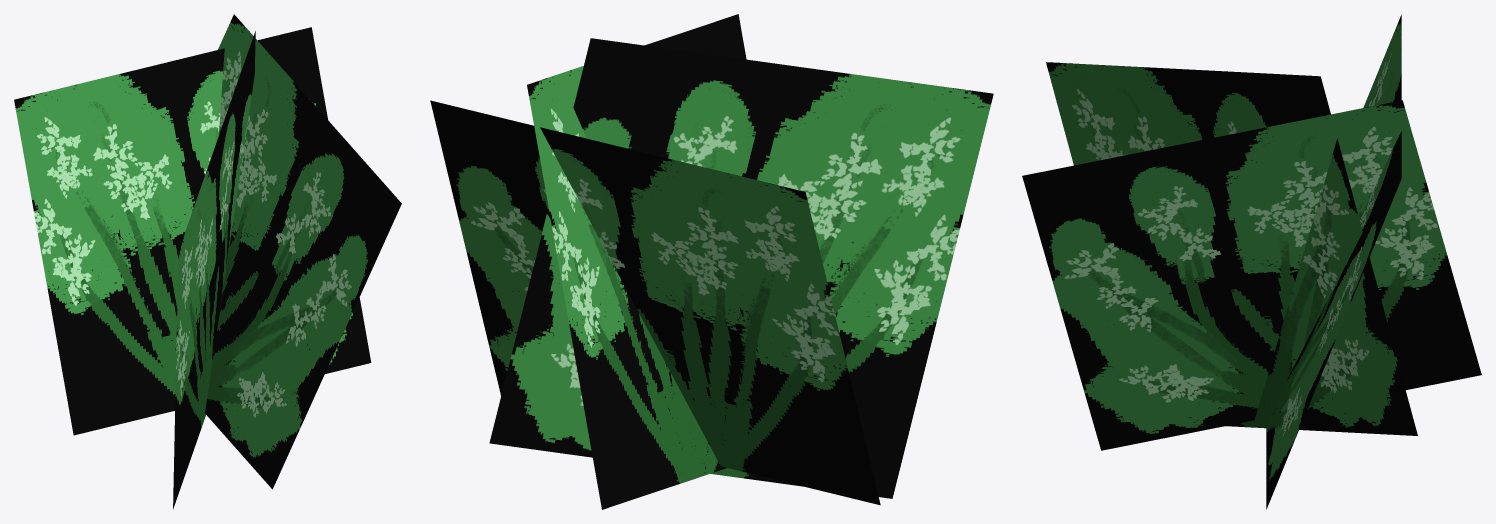
Rendered from flowers.obj.
3 views of the same model, side by side, from view 1: azimuth 30°, elevation 25°; view 2: azimuth 150°, elevation 25°; view 3: azimuth 270°, elevation 25° (orthographic). The views are drawn at different scales.
Parts seen in each view (by area): view 1: pPlane4; view 2: pPlane4; view 3: pPlane4.
Boxes of the visible parts, <box> form: pPlane4: <box>14,14,401,509</box>; pPlane4: <box>430,14,993,509</box>; pPlane4: <box>1022,14,1481,509</box>.
Size of the model in its own units: 1 by 1.23 by 1.18.
1 material, 1 textured.
